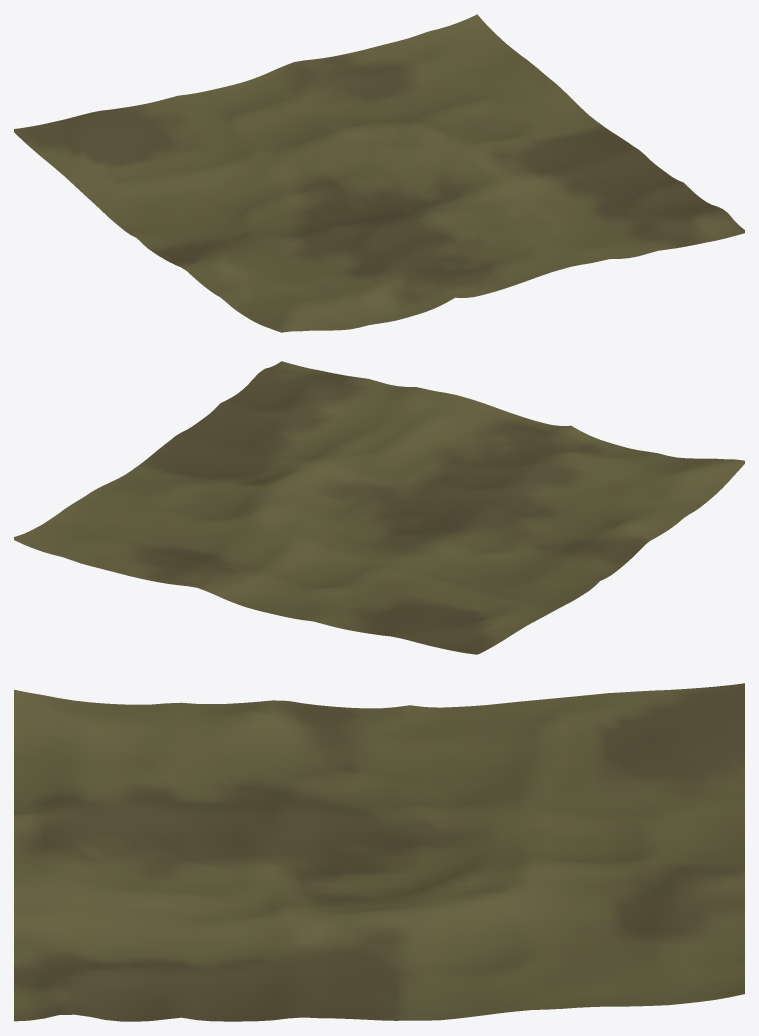
The model's file is land_m_03_08.glb.
The picture shows the model from 3 angles, top to bottom: view 1: azimuth 30°, elevation 25°; view 2: azimuth 150°, elevation 25°; view 3: azimuth 270°, elevation 25°; orthographic projection. The views are drawn at different scales.
Visible parts, largest first — view 1: land_m_03_08; view 2: land_m_03_08; view 3: land_m_03_08.
Part boxes in pixels (bbox=[...]): land_m_03_08: bbox=[14, 14, 744, 332]; land_m_03_08: bbox=[14, 361, 744, 654]; land_m_03_08: bbox=[14, 683, 744, 1021].
Size of the model in its own units: 960 by 50.22 by 960.
